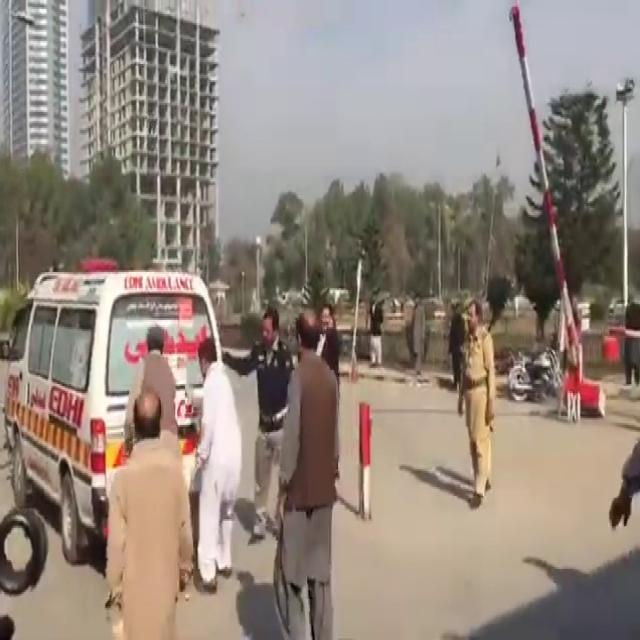ambulance: (0, 252, 233, 527)
